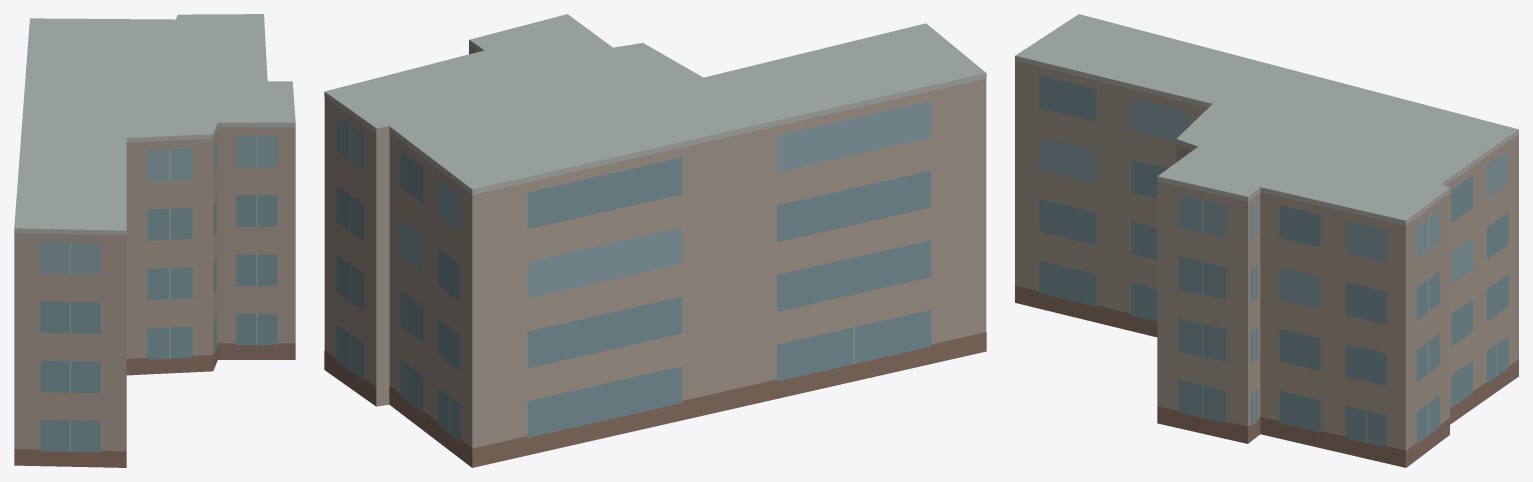
File: survey-upis-32642921.glb
3 views of the same model, side by side, from view 1: azimuth 30°, elevation 25°; view 2: azimuth 150°, elevation 25°; view 3: azimuth 270°, elevation 25° (orthographic). The views are drawn at different scales.
Visible parts, largest first — view 1: survey-upis-32642921.tmp; view 2: survey-upis-32642921.tmp; view 3: survey-upis-32642921.tmp.
Part boxes in pixels (bbox=[...]): survey-upis-32642921.tmp: bbox=[14, 14, 295, 467]; survey-upis-32642921.tmp: bbox=[324, 14, 986, 467]; survey-upis-32642921.tmp: bbox=[1015, 14, 1518, 467].
Bounding box in the file's own units: 21.91 × 12.2 × 22.55.
